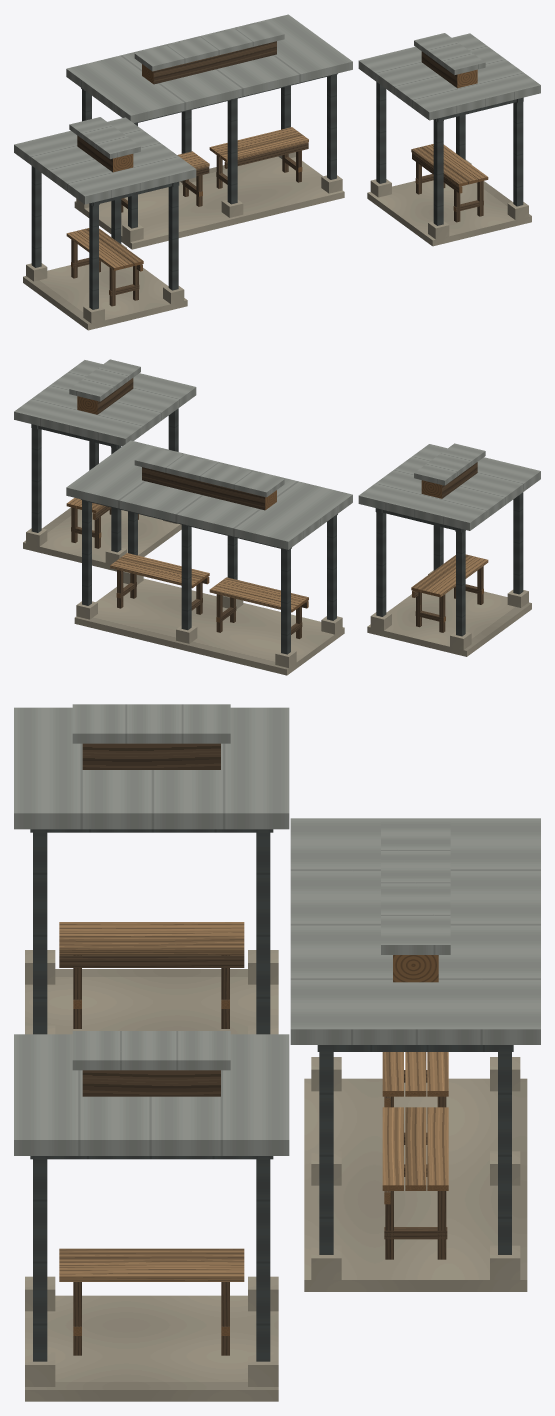
The model's file is niamey.glb.
3 views of the same model, one above another, from view 1: azimuth 30°, elevation 25°; view 2: azimuth 150°, elevation 25°; view 3: azimuth 270°, elevation 25° (orthographic). The views are drawn at different scales.
Visible parts, largest first — view 1: niamey; view 2: niamey; view 3: niamey.
Part boxes in pixels (box(x1,y1,x2,y2)): niamey: box(14, 14, 540, 330); niamey: box(14, 359, 540, 675); niamey: box(14, 704, 540, 1401).
Bounding box in the file's own units: 7.4 × 2.46 × 3.81.
1 material, 1 textured.
